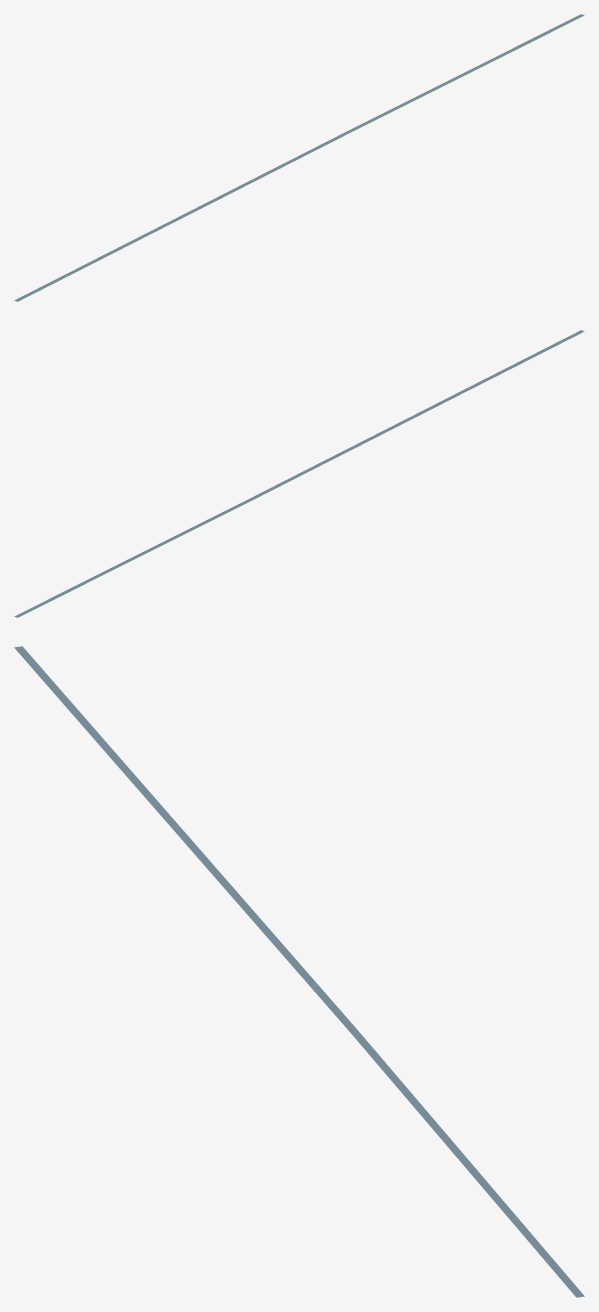
3 renders of one model, top to bottom at view 1: azimuth 30°, elevation 25°; view 2: azimuth 210°, elevation 25°; view 3: azimuth 270°, elevation 25°, orthographic. The views are drawn at different scales.
Bounding box in the file's own units: 1198 × 0 × 444.
